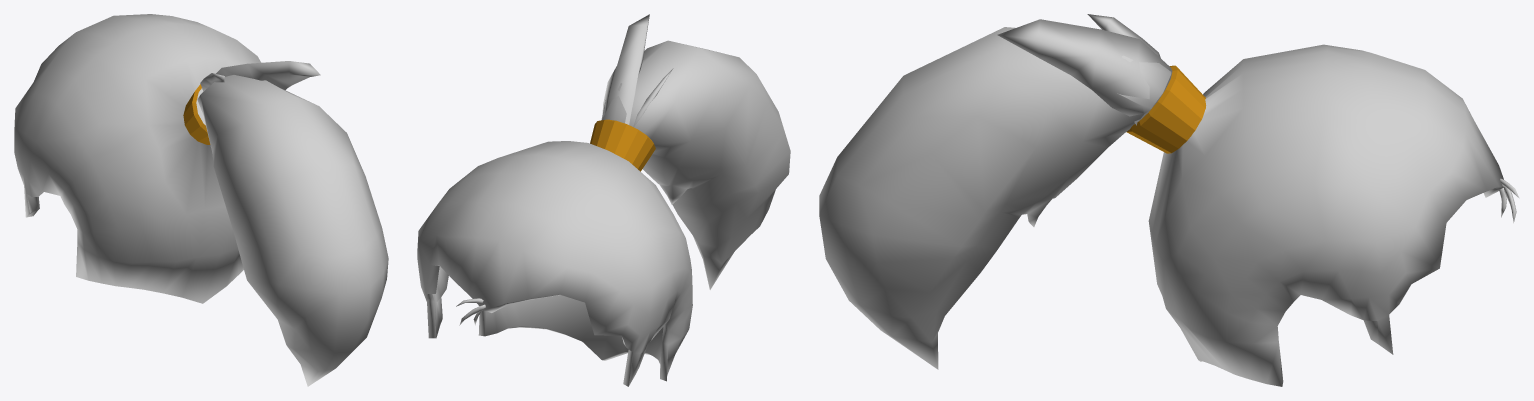
File: var14.obj
3 views of the same model, side by side, from view 1: azimuth 30°, elevation 25°; view 2: azimuth 150°, elevation 25°; view 3: azimuth 270°, elevation 25° (orthographic). The views are drawn at different scales.
Parts seen in each view (by area): view 1: Dragonhair1, Dragonhair21, Dragonband1; view 2: Dragonhair1, Dragonhair21, Dragonband1; view 3: Dragonhair1, Dragonhair21, Dragonband1.
Boxes of the visible parts, left/top/right/bottom form: Dragonhair1: left=14, top=14, right=260, bottom=303; Dragonhair21: left=196, top=61, right=388, bottom=386; Dragonband1: left=183, top=84, right=210, bottom=144; Dragonhair1: left=417, top=141, right=692, bottom=386; Dragonhair21: left=456, top=14, right=790, bottom=325; Dragonband1: left=590, top=119, right=655, bottom=171; Dragonhair1: left=1148, top=44, right=1503, bottom=386; Dragonhair21: left=819, top=14, right=1519, bottom=369; Dragonband1: left=1126, top=65, right=1206, bottom=153.
Bounding box in the file's own units: 1.38 × 1.62 × 2.83.
